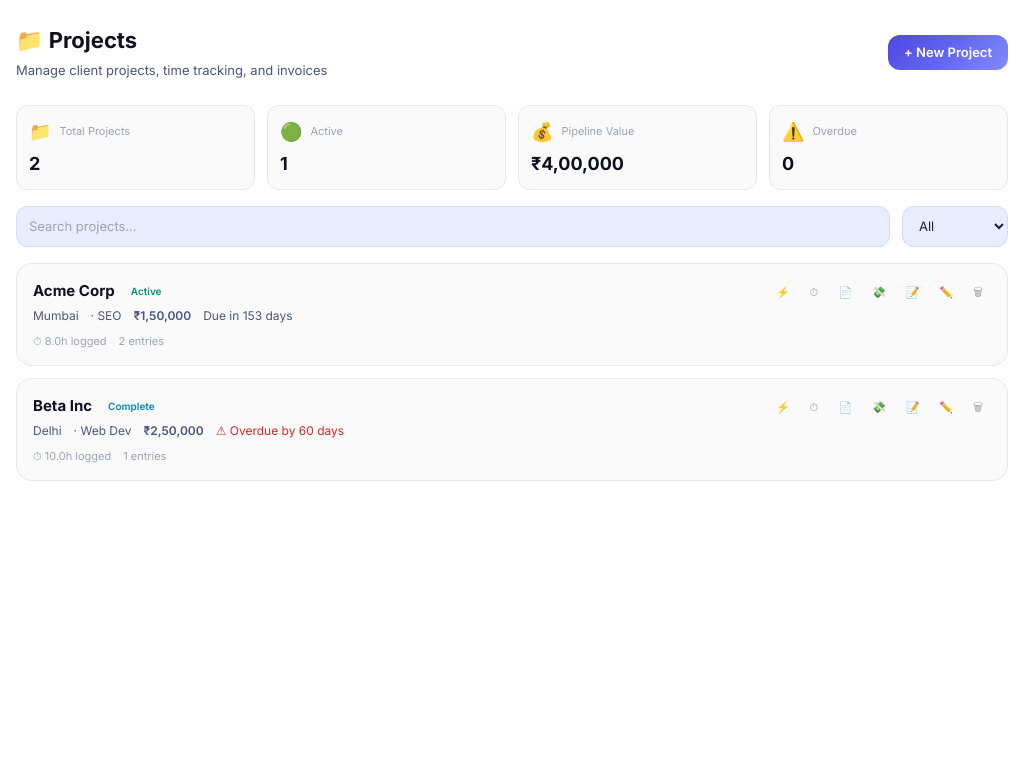
Test: ProjectsTab › project actions › expands project details when clicked
The width and height of the screenshot is (1024, 761).
Note: Click on the project name to expand
Click the heading "Acme Corp" at (74, 291), box [33,280,115,302]
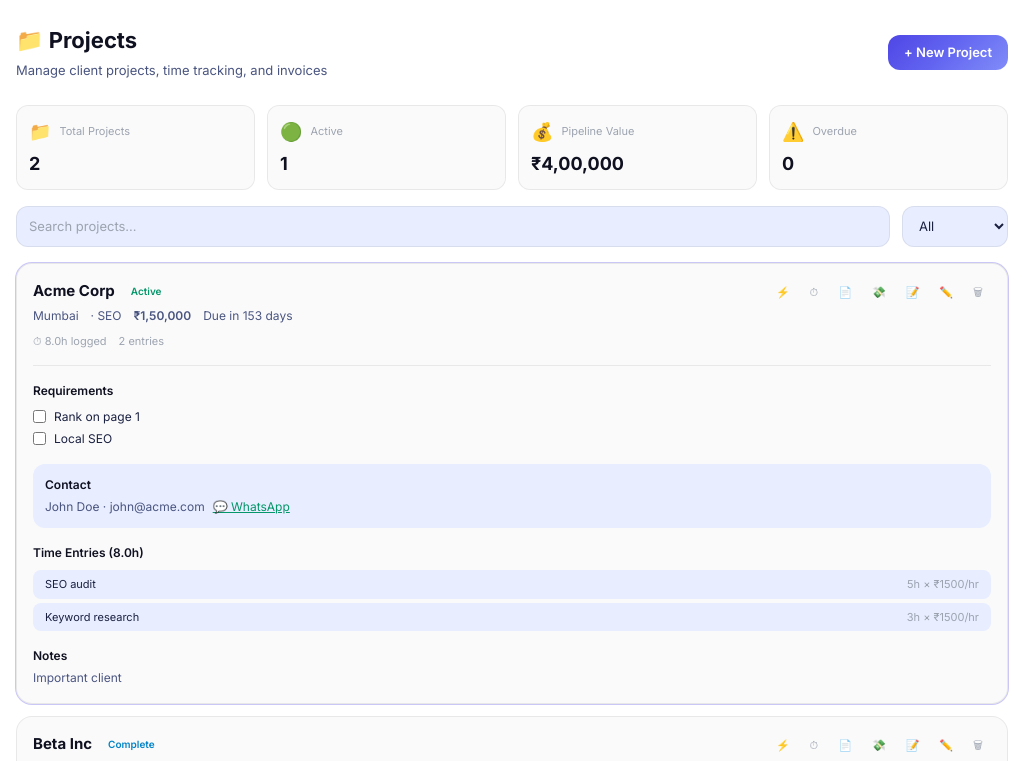
Result: the heading "Requirements" is shown at [33,383,113,398]
Result: the text "Rank on page 1" is shown at [33,409,140,424]
Result: the heading "Contact" is shown at [45,477,91,492]
